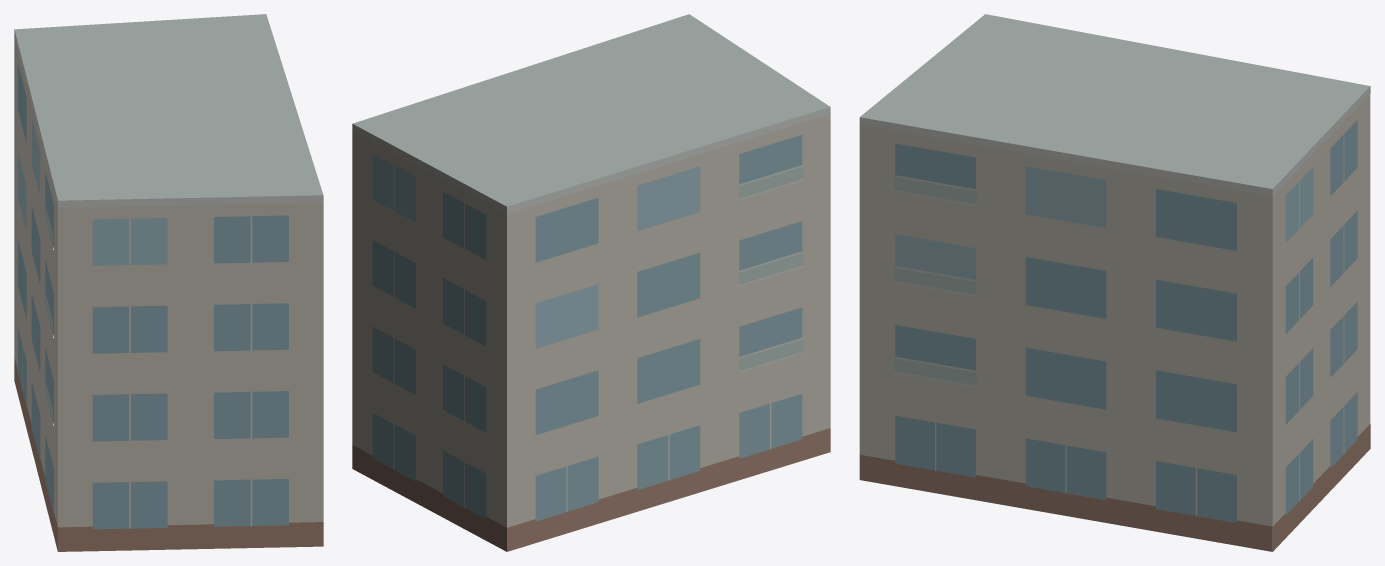
Rendered from survey-upis-32984522.glb.
The picture shows the model from 3 angles, left to right: view 1: azimuth 30°, elevation 25°; view 2: azimuth 150°, elevation 25°; view 3: azimuth 270°, elevation 25°; orthographic projection. The views are drawn at different scales.
Parts seen in each view (by area): view 1: survey-upis-32984522.tmp; view 2: survey-upis-32984522.tmp; view 3: survey-upis-32984522.tmp.
Part boxes in pixels (x1=…): survey-upis-32984522.tmp: x1=14, y1=14, x2=323, y2=551; survey-upis-32984522.tmp: x1=352, y1=14, x2=830, y2=551; survey-upis-32984522.tmp: x1=859, y1=14, x2=1370, y2=551.
Size of the model in its own units: 12.28 by 11.85 by 15.13.
